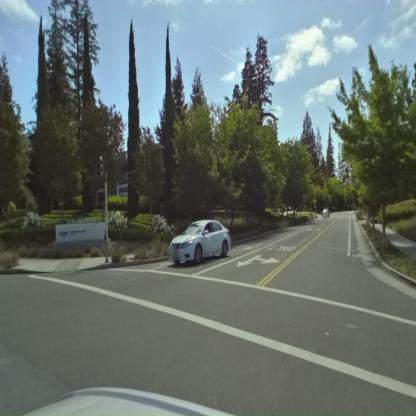car: (168, 220, 232, 266)
traffic light: (98, 148, 110, 181)
